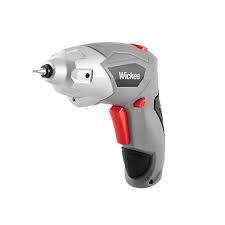screwdriver: (31, 66, 47, 74)
